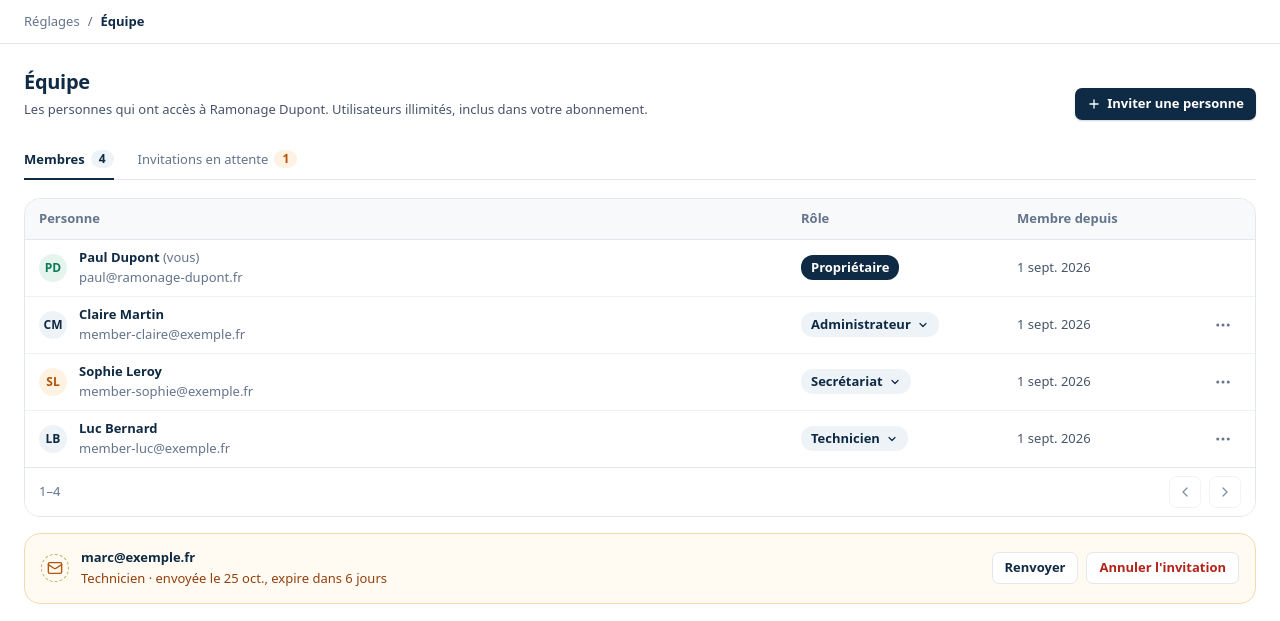
it: MemberRow role and invitation actions › does not send anything when the current role is chosen again
Expected: the text "Luc Bernard" is shown, top-left (79, 419), bottom-right (158, 437)
Expected: the text "(vous)" is shown, top-left (160, 248), bottom-right (199, 266)
Click the button "Technicien" at {"x": 854, "y": 439}, box top-left (801, 426), bottom-right (908, 451)
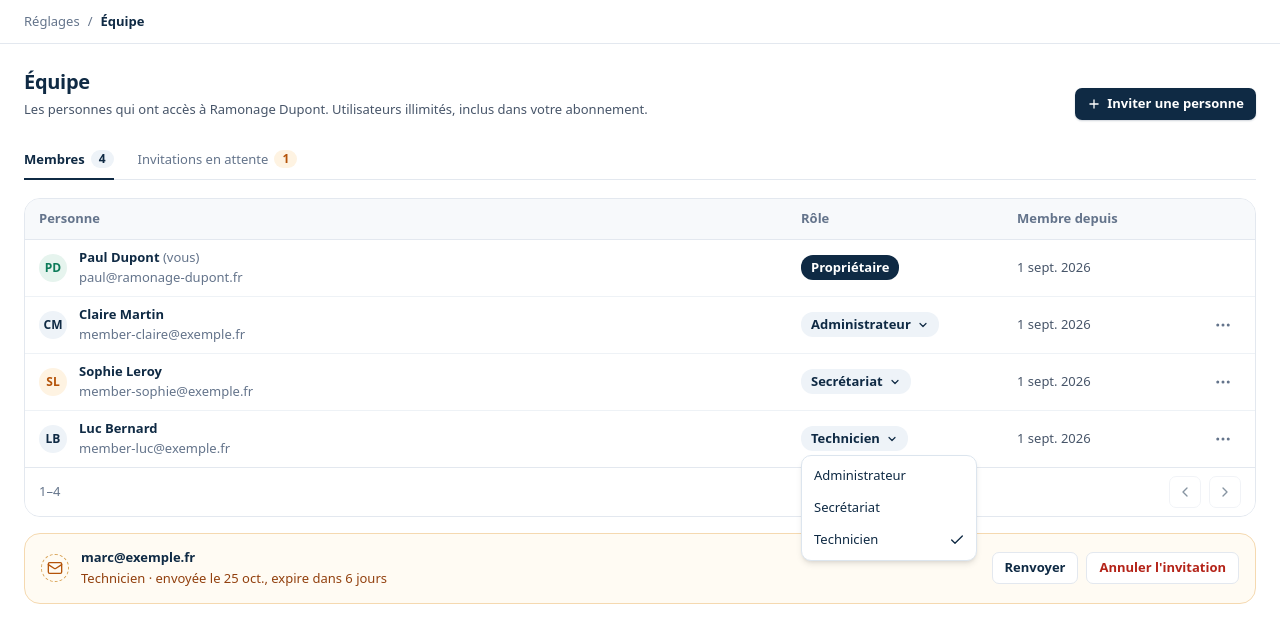
Click the menu item "Technicien" at {"x": 846, "y": 539}, box top-left (814, 530), bottom-right (965, 548)
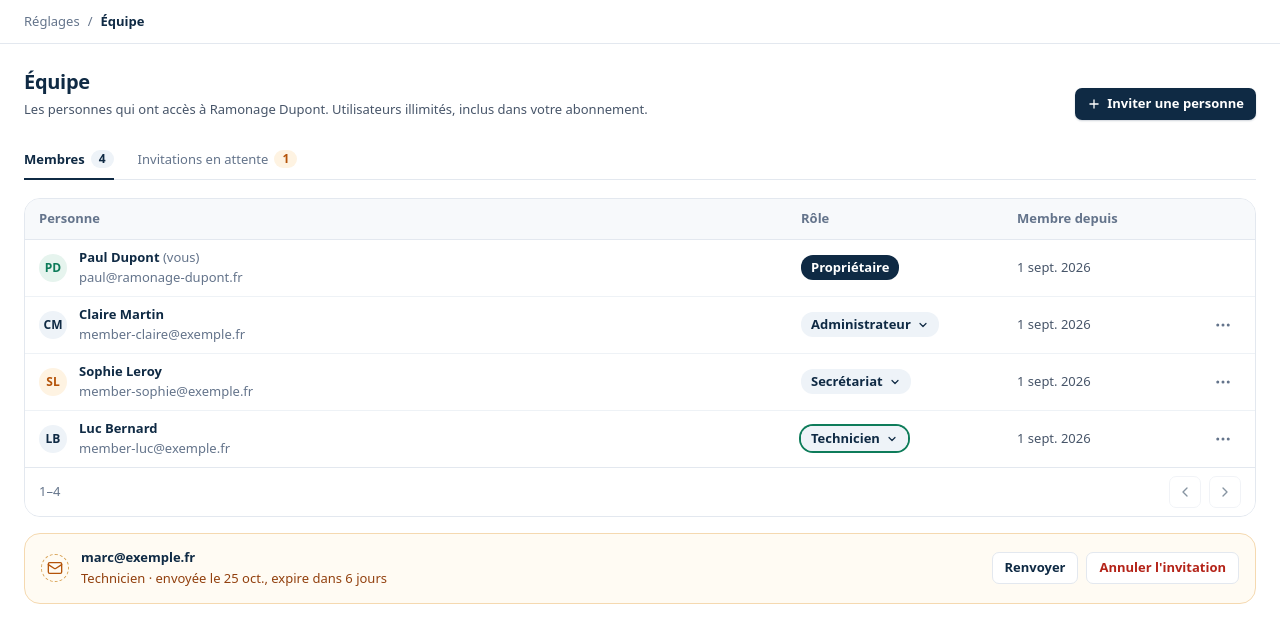
Expected: the menu is gone
